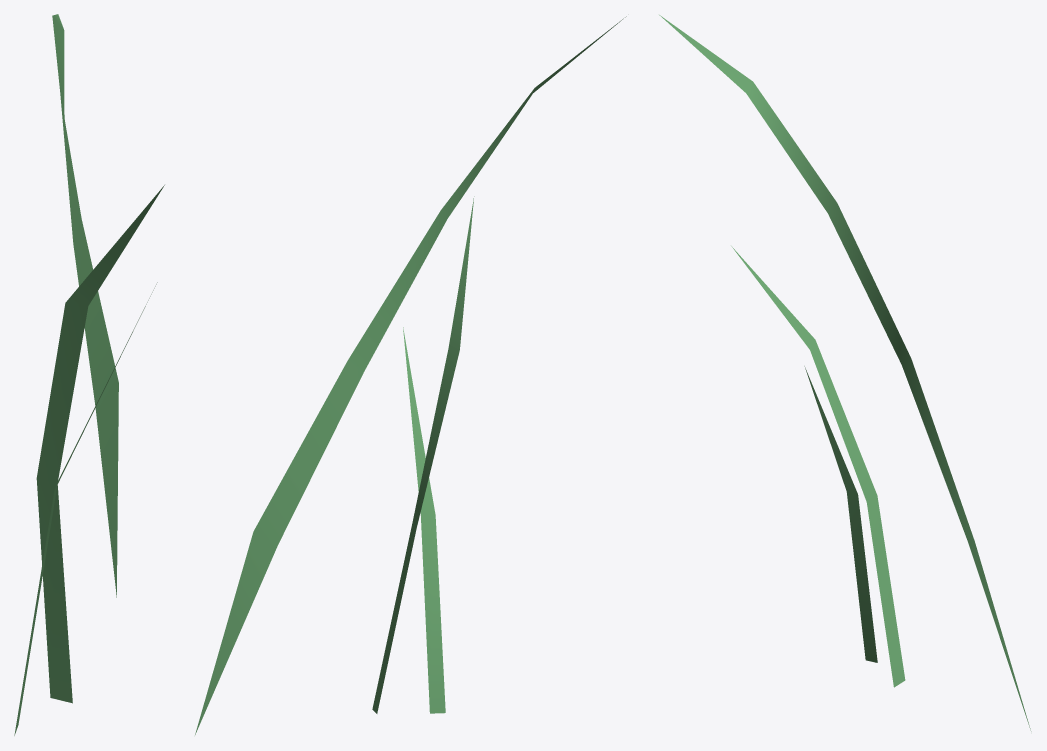
File: animated_grass_variants.glb
3 renders of one model, left to right at view 1: azimuth 30°, elevation 25°; view 2: azimuth 150°, elevation 25°; view 3: azimuth 270°, elevation 25°, orthographic. The views are drawn at different scales.
Visible parts, largest first — view 1: AnimatedGrassVariant_2, AnimatedGrassVariant_3, AnimatedGrassVariant_1; view 2: AnimatedGrassVariant_3, AnimatedGrassVariant_1, AnimatedGrassVariant_2; view 3: AnimatedGrassVariant_3, AnimatedGrassVariant_2, AnimatedGrassVariant_1.
Boxes of the visible parts, x1=… form: AnimatedGrassVariant_2: x1=36, y1=185, x2=164, y2=703; AnimatedGrassVariant_3: x1=52, y1=14, x2=118, y2=597; AnimatedGrassVariant_1: x1=14, y1=282, x2=157, y2=735; AnimatedGrassVariant_3: x1=195, y1=16, x2=626, y2=734; AnimatedGrassVariant_1: x1=403, y1=327, x2=445, y2=713; AnimatedGrassVariant_2: x1=372, y1=196, x2=474, y2=713; AnimatedGrassVariant_3: x1=659, y1=15, x2=1031, y2=731; AnimatedGrassVariant_2: x1=731, y1=246, x2=905, y2=687; AnimatedGrassVariant_1: x1=804, y1=366, x2=877, y2=662.
Bounding box in the file's own units: 0.2905 × 0.7397 × 0.411.
